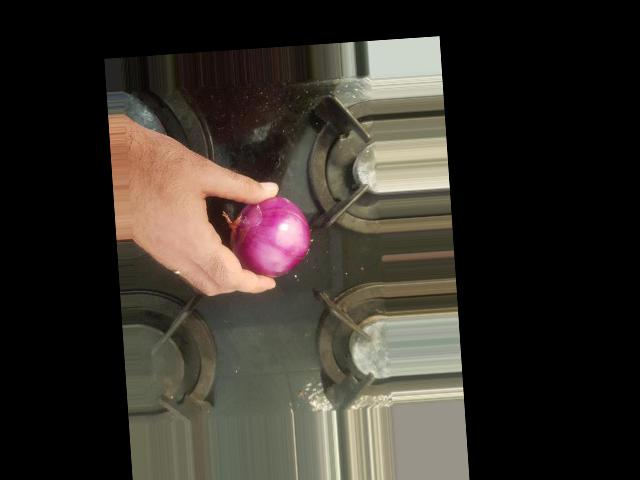onion: (270, 254, 360, 344)
